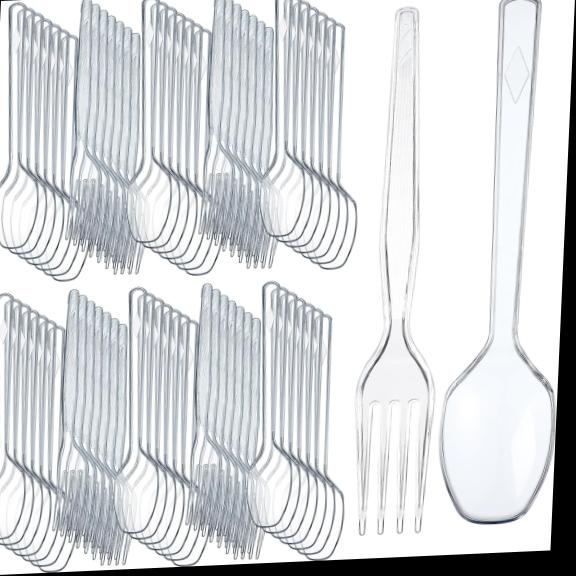Plastik: (439, 0, 555, 522), (354, 7, 433, 533)
